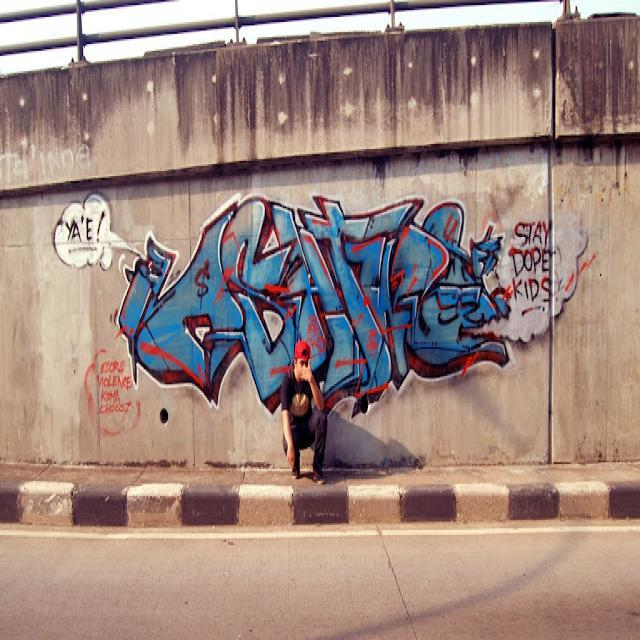-: (53, 190, 598, 438)
